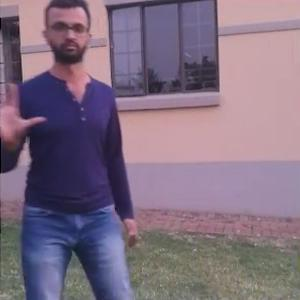follow_hand: (0, 77, 47, 154)
